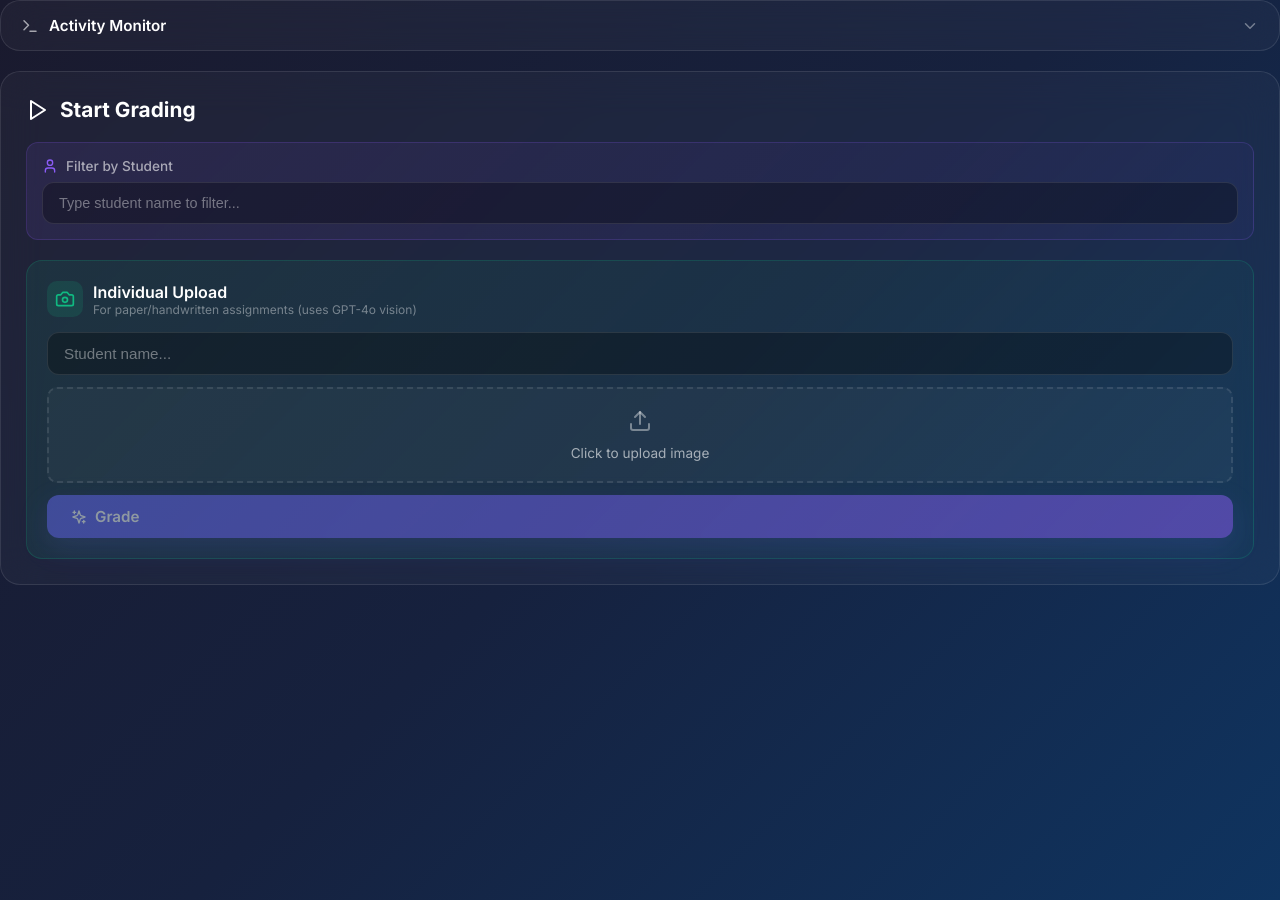
Test: GradeTab › activity-log expander toggles internal showActivityLog state
This screenshot has width=1280, height=900.
expect the text "Ready to grade" is not shown: met
Click the button "Activity Monitor" at (108, 26), box [21,16,1259,35]
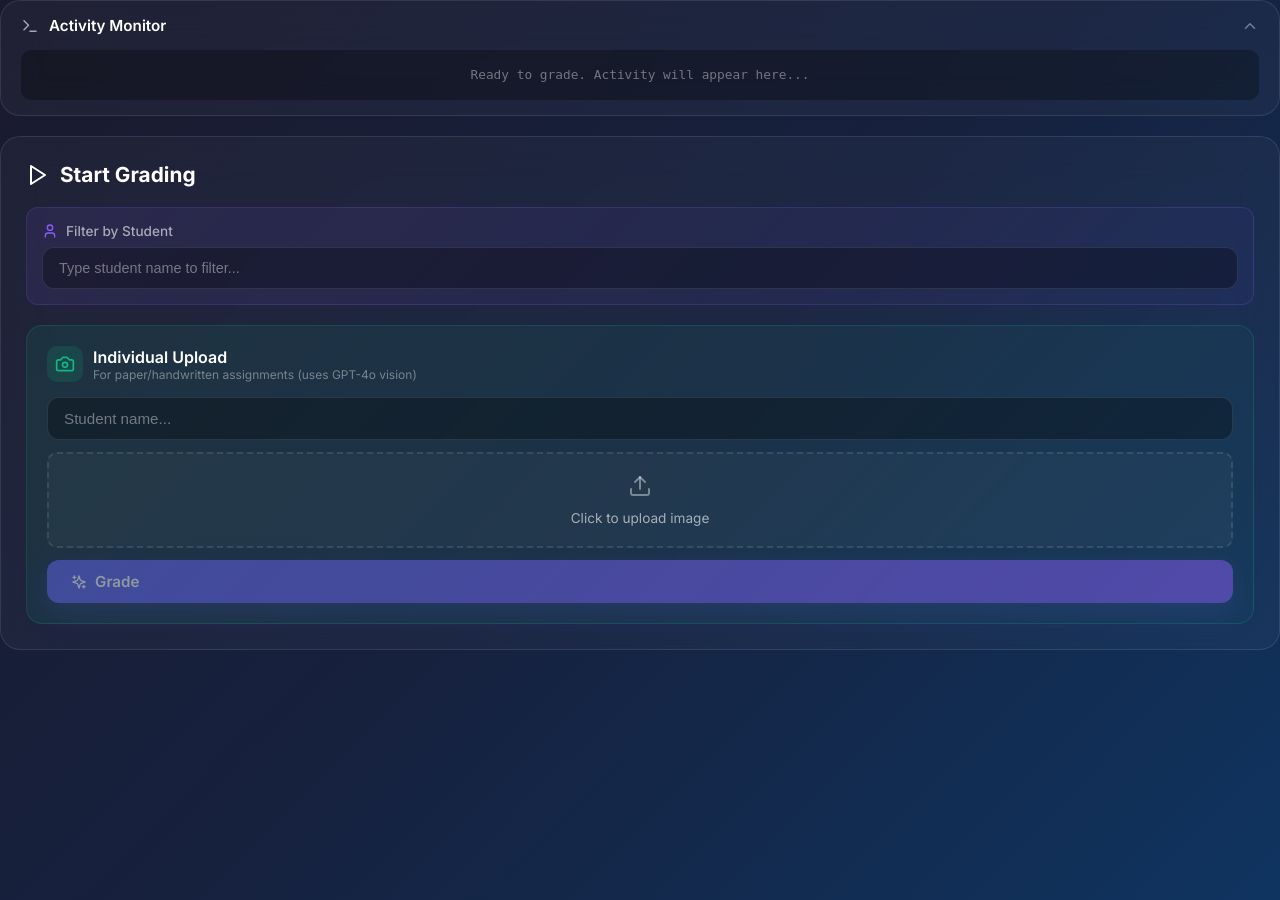
expect the text "Ready to grade. Activity will appear here..." is shown: met, box [470,67,810,82]
